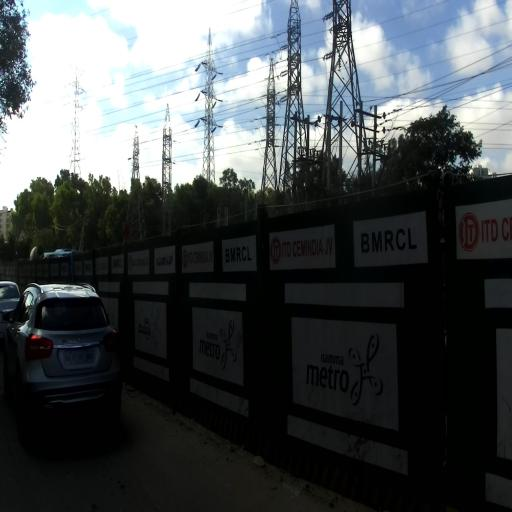street_light_0: (0, 210, 11, 216)
